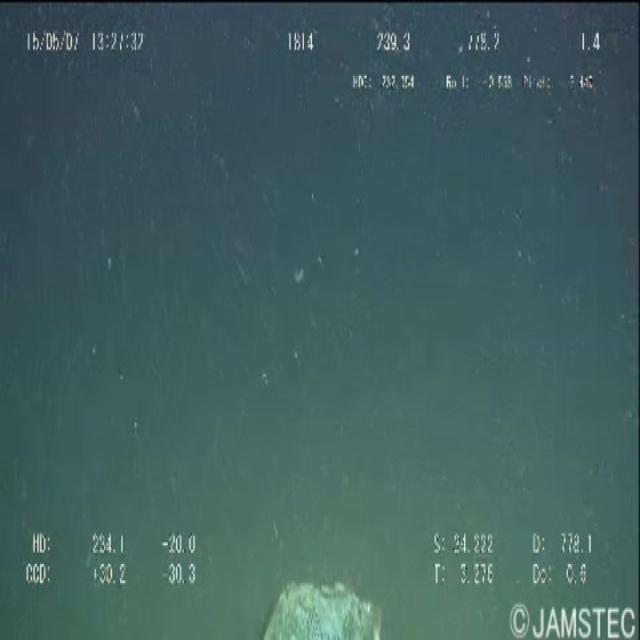Cutlery: (258, 525, 393, 640)
